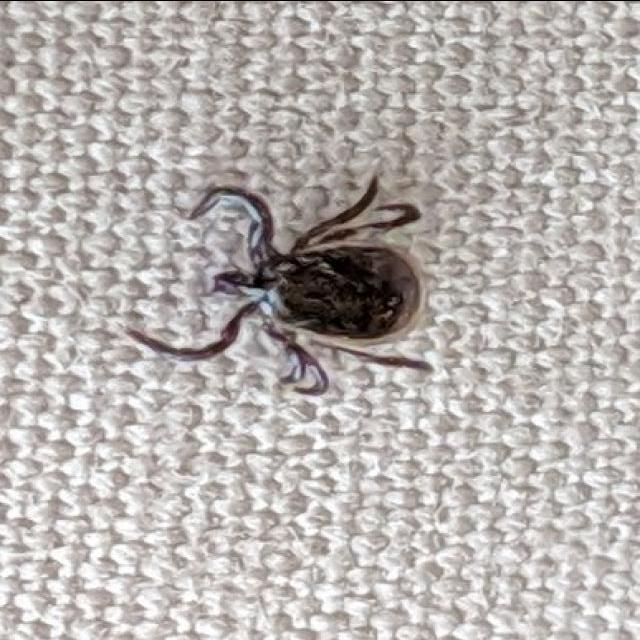Ixodes Ricinus-M: (175, 172, 433, 398)
